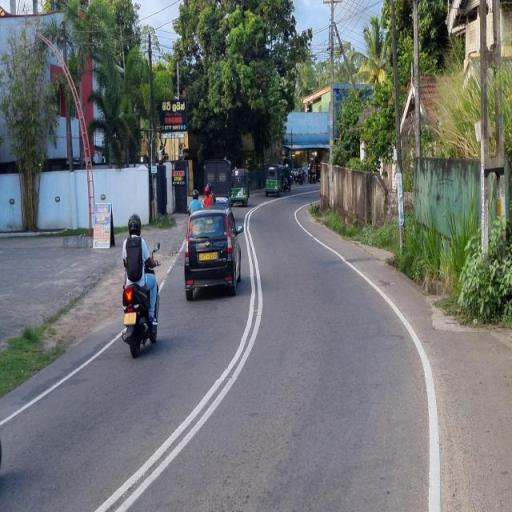double_white_line: (94, 200, 264, 510)
